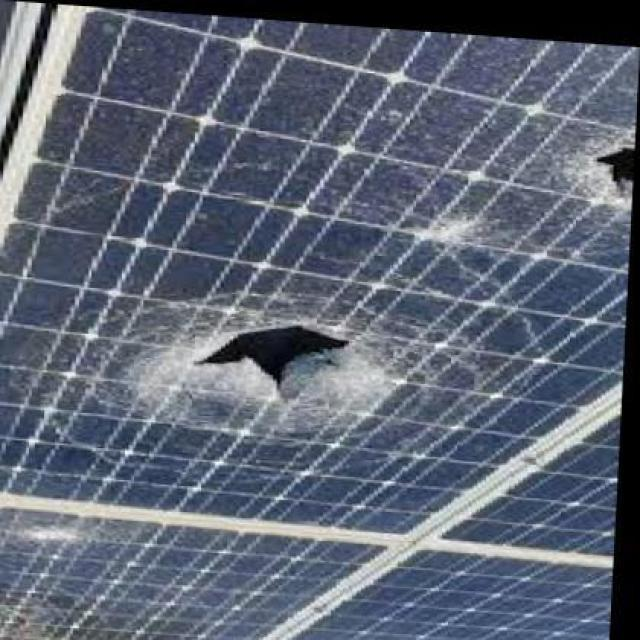cracked: (8, 2, 628, 544)
